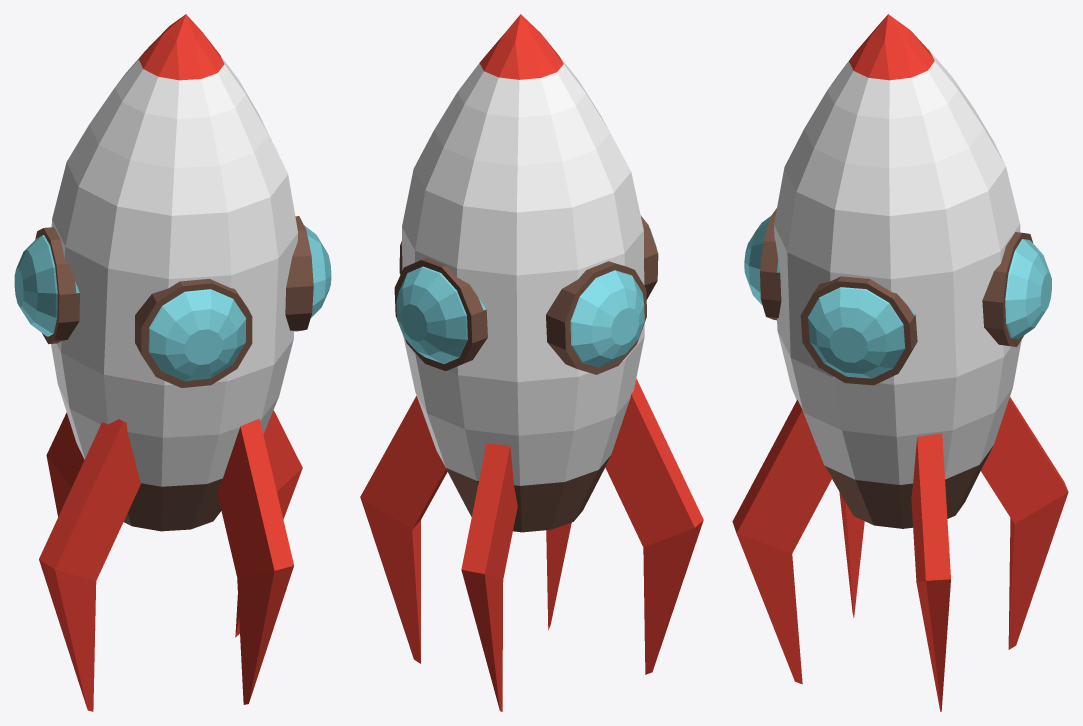
The model's file is rocket2.glb.
3 renders of one model, left to right at view 1: azimuth 30°, elevation 25°; view 2: azimuth 150°, elevation 25°; view 3: azimuth 270°, elevation 25°, orthographic.
Parts seen in each view (by area): view 1: Node.063; view 2: Node.063; view 3: Node.063.
Part boxes in pixels (x1=…): Node.063: x1=14, y1=14, x2=331, y2=711; Node.063: x1=360, y1=14, x2=703, y2=711; Node.063: x1=732, y1=14, x2=1068, y2=711.
Size of the model in its own units: 0.3208 by 0.6825 by 0.3135.
